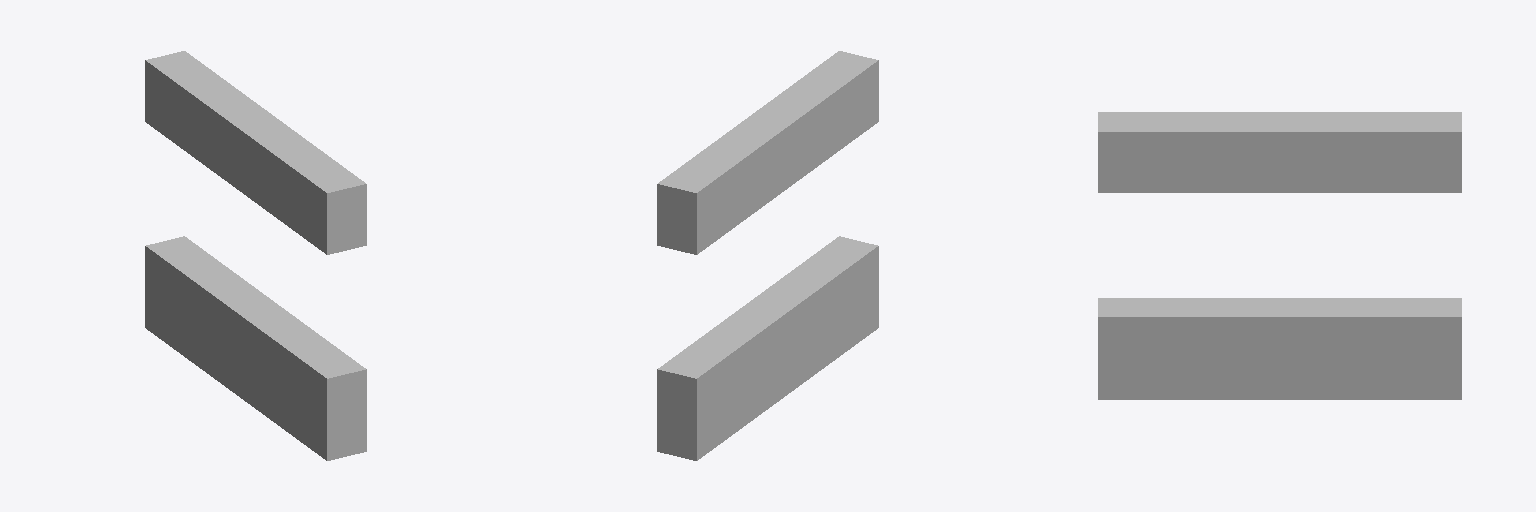
File: fence_middle.obj
3 renders of one model, left to right at view 1: azimuth 30°, elevation 25°; view 2: azimuth 150°, elevation 25°; view 3: azimuth 270°, elevation 25°, orthographic.
Parts seen in each view (by area): view 1: Untitled.001; view 2: Untitled.001; view 3: Untitled.001.
Part boxes in pixels (bbox=[...]): Untitled.001: bbox=[145, 51, 366, 460]; Untitled.001: bbox=[657, 51, 878, 460]; Untitled.001: bbox=[1098, 112, 1461, 399].
Size of the model in its own units: 0.2 by 1.3 by 1.6.